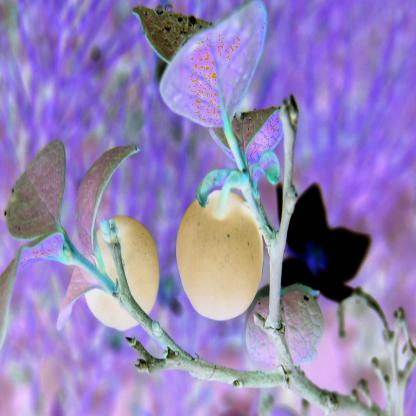Blueberry leaf: (127, 1, 268, 136), (71, 138, 140, 251), (6, 131, 70, 247)
